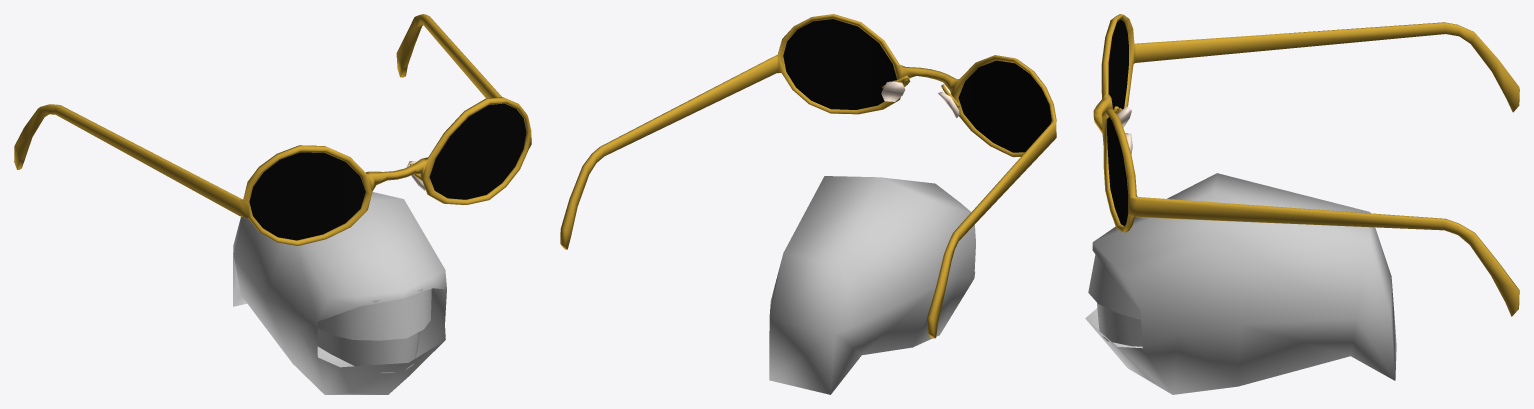
File: meshExportObj.obj
3 views of the same model, side by side, from view 1: azimuth 30°, elevation 25°; view 2: azimuth 150°, elevation 25°; view 3: azimuth 270°, elevation 25° (orthographic). The views are drawn at different scales.
Visible parts, largest first — view 1: Mouth, Glasses; view 2: Mouth, Glasses; view 3: Mouth, Glasses.
Boxes of the visible parts, bbox=[...] form: Mouth: bbox=[233, 192, 446, 394]; Glasses: bbox=[14, 14, 531, 245]; Mouth: bbox=[769, 176, 975, 394]; Glasses: bbox=[560, 14, 1056, 338]; Mouth: bbox=[1085, 173, 1396, 394]; Glasses: bbox=[1093, 14, 1519, 316].
Bounding box in the file's own units: 175 × 121 × 156.
